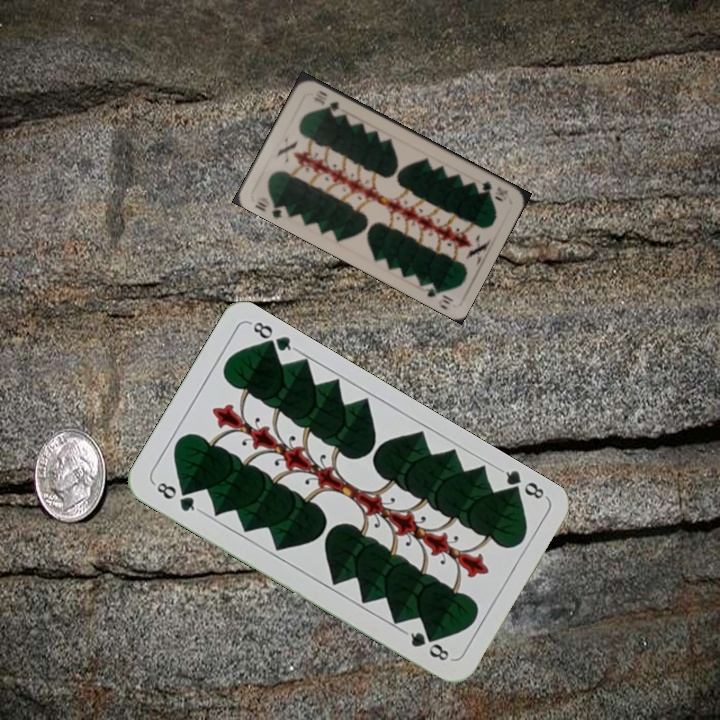G10: (251, 195, 290, 221), (478, 177, 512, 200)
G8: (496, 464, 550, 503), (150, 478, 203, 515)
